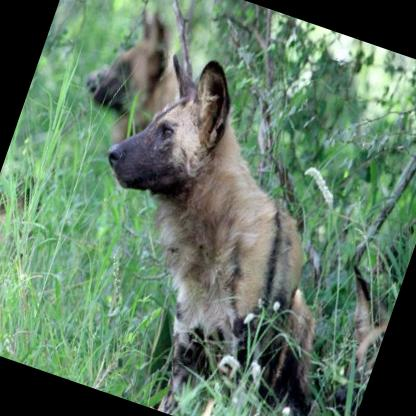African_hunting_dog: (31, 39, 416, 416), (68, 0, 211, 156)
